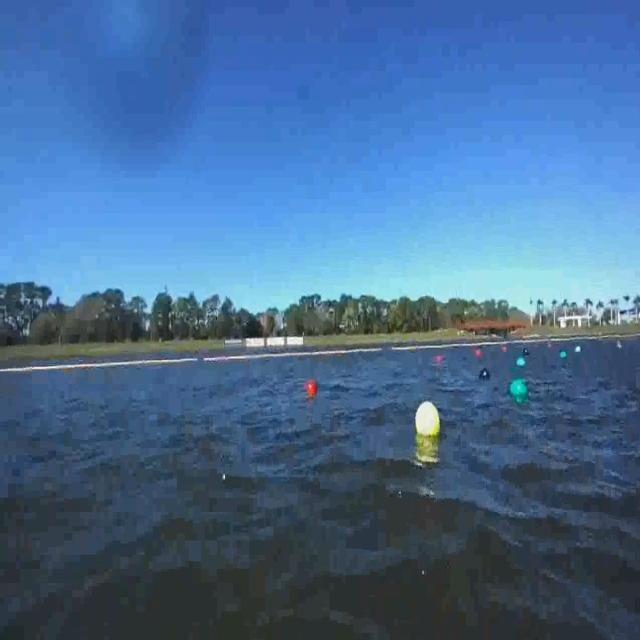black-buoy: (480, 367, 492, 380)
green-buoy: (508, 376, 526, 401), (516, 356, 524, 367)
red-buoy: (305, 378, 315, 394), (307, 381, 317, 396)
yellow-buoy: (415, 401, 440, 438)
